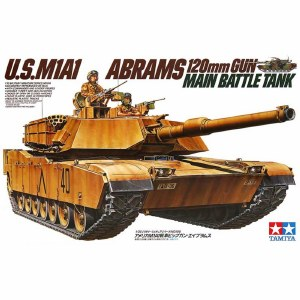Battle Tank: (5, 96, 300, 242)
